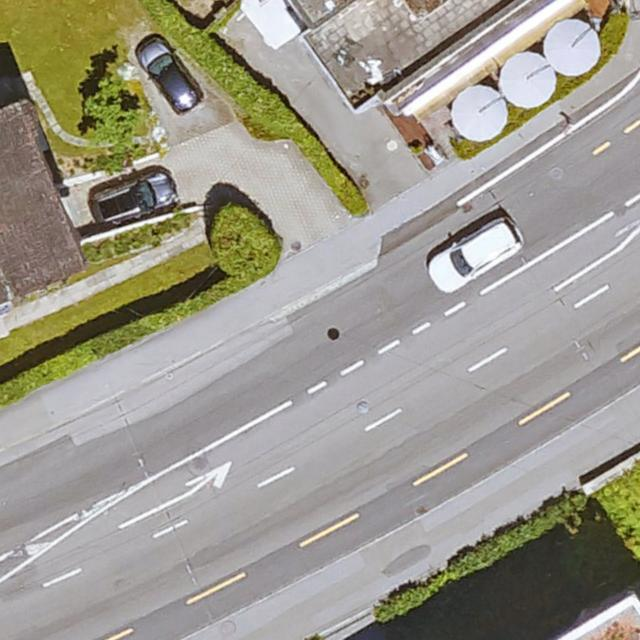tree: (83, 87, 142, 159)
